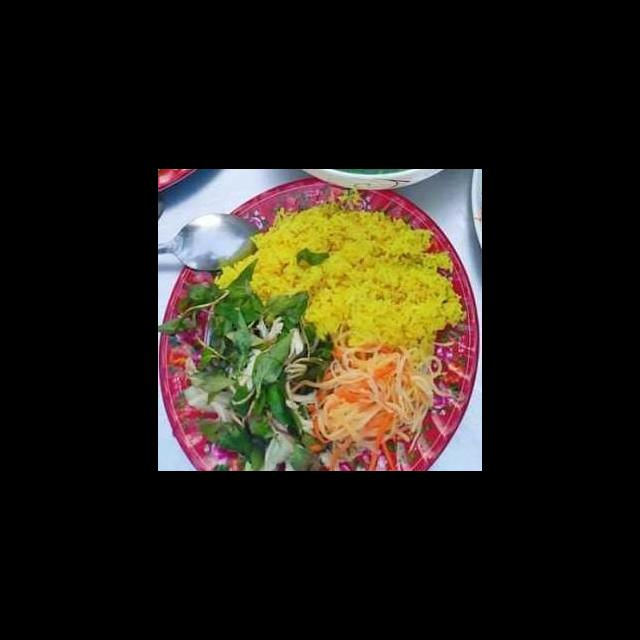com: (211, 199, 468, 353)
rau ram: (159, 255, 337, 471)
